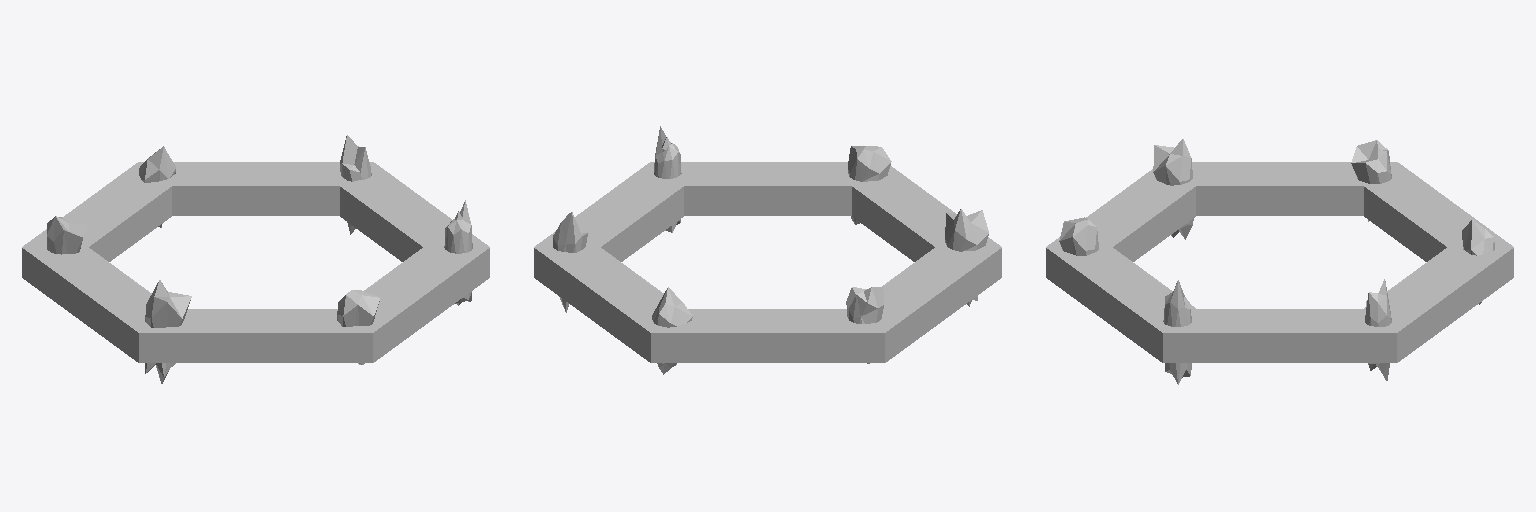
The model's file is watcher.obj.
3 views of the same model, side by side, from view 1: azimuth 30°, elevation 25°; view 2: azimuth 150°, elevation 25°; view 3: azimuth 270°, elevation 25° (orthographic).
Parts seen in each view (by area): view 1: scanner, outer4, outer5, outer3, outer1, outer2, outer6; view 2: scanner, outer4, outer5, outer3, outer6, outer1, outer2; view 3: scanner, outer4, outer3, outer1, outer5, outer2, outer6.
Boxes of the visible parts, x1,y1,x2,y2 form: scanner: [22, 162, 489, 362]; outer4: [145, 280, 191, 383]; outer5: [337, 290, 379, 364]; outer3: [47, 216, 86, 254]; outer1: [444, 200, 472, 305]; outer2: [340, 135, 371, 234]; outer6: [139, 146, 175, 227]; scanner: [534, 162, 1001, 362]; outer4: [945, 209, 988, 306]; outer5: [848, 146, 891, 224]; outer3: [846, 286, 883, 363]; outer6: [652, 287, 692, 374]; outer1: [654, 126, 680, 232]; outer2: [553, 212, 587, 312]; scanner: [1046, 162, 1513, 362]; outer4: [1153, 139, 1193, 239]; outer3: [1351, 140, 1391, 221]; outer1: [1163, 280, 1191, 384]; outer5: [1059, 217, 1098, 255]; outer2: [1365, 279, 1391, 380]; outer6: [1462, 220, 1494, 304].
Size of the model in its own units: 2.42 by 0.7185 by 2.8.